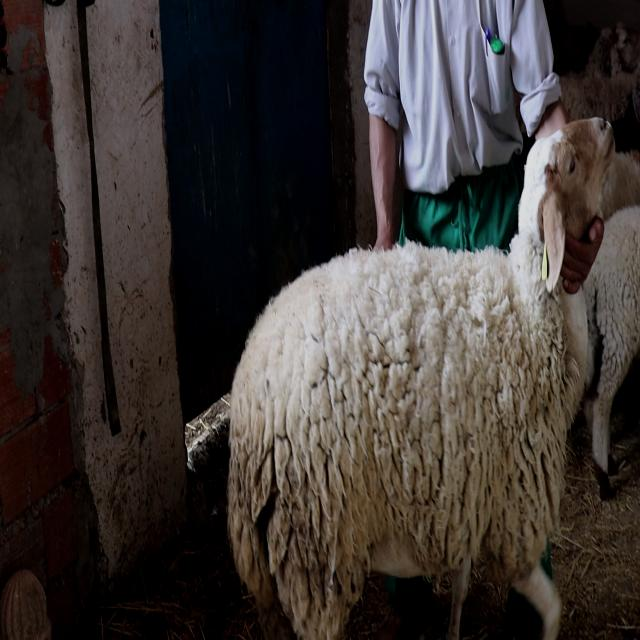Score_5: (227, 117, 615, 639)
